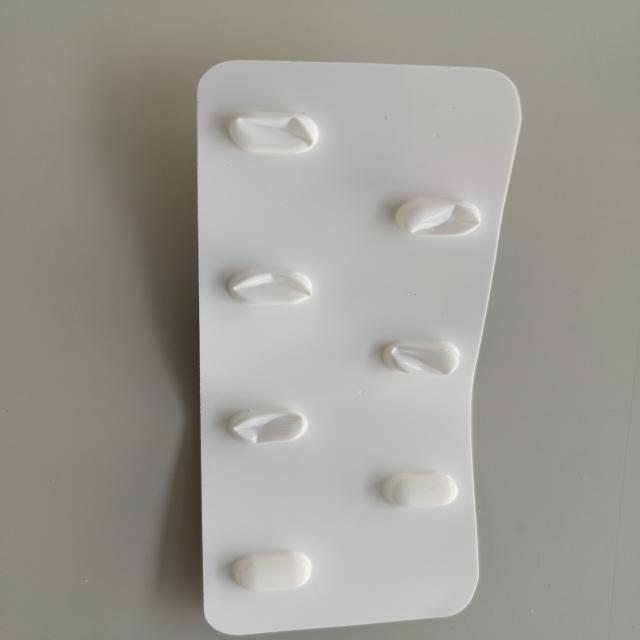Empty: (216, 106, 326, 159), (220, 261, 318, 309), (392, 194, 488, 241), (223, 404, 314, 449), (376, 334, 465, 380)
Pill: (223, 549, 318, 593), (374, 468, 464, 512)
